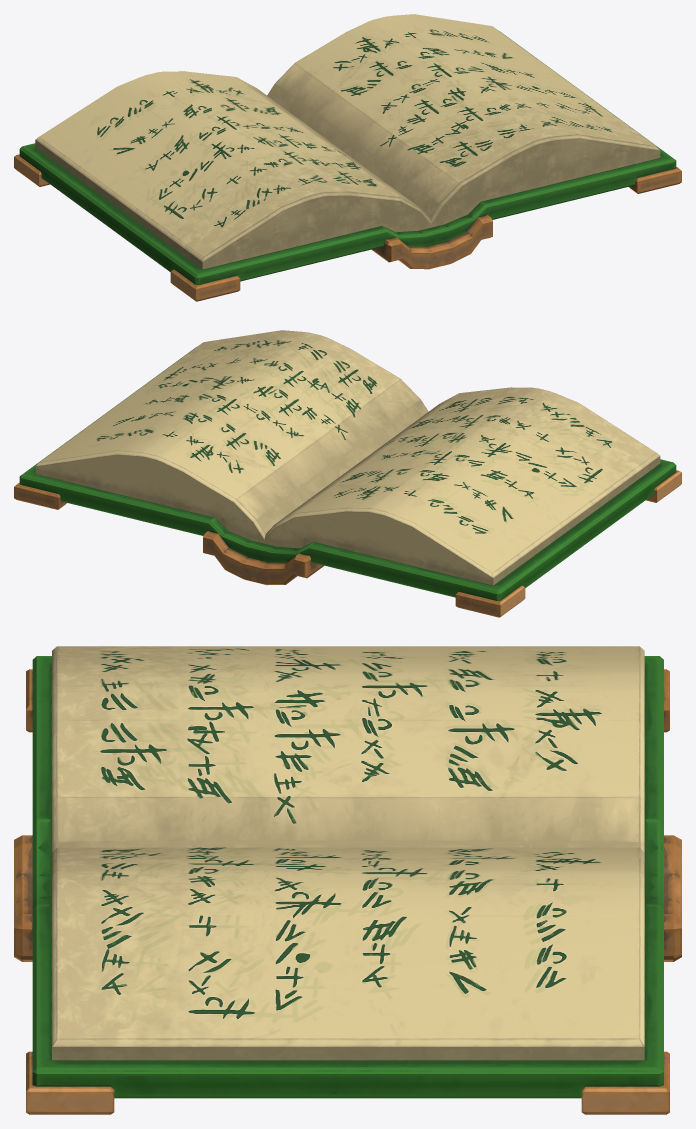
File: Wizard_Spell_Book.fbx
3 renders of one model, top to bottom at view 1: azimuth 30°, elevation 25°; view 2: azimuth 150°, elevation 25°; view 3: azimuth 270°, elevation 25°, orthographic. The views are drawn at different scales.
Visible parts, largest first — view 1: Wizard_Book:Spell_Book; view 2: Wizard_Book:Spell_Book; view 3: Wizard_Book:Spell_Book.
Part boxes in pixels (x1,y1,x2,y2): Wizard_Book:Spell_Book: (14, 14, 681, 301); Wizard_Book:Spell_Book: (14, 330, 681, 617); Wizard_Book:Spell_Book: (14, 646, 681, 1114).
Bounding box in the file's own units: 187 × 34.33 × 126.
